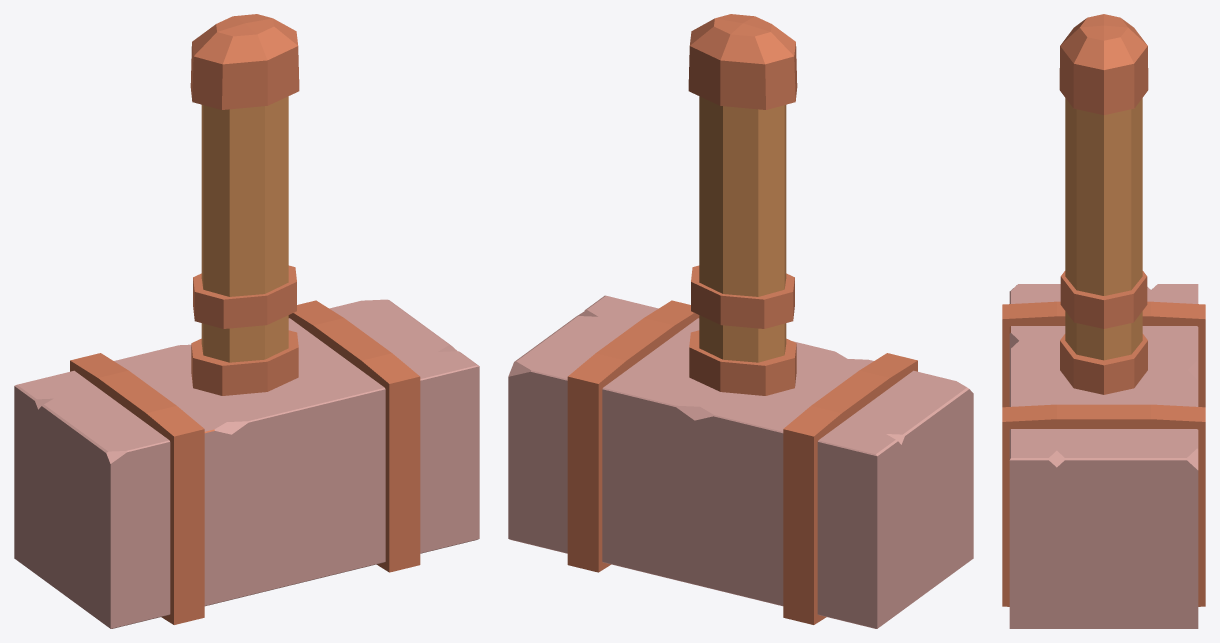
The model's file is ENV_Hammer01_Placeholder02.fbx.
The picture shows the model from 3 angles, left to right: view 1: azimuth 30°, elevation 25°; view 2: azimuth 150°, elevation 25°; view 3: azimuth 270°, elevation 25°; orthographic projection. The views are drawn at different scales.
Visible parts, largest first — view 1: Cube.006; view 2: Cube.006; view 3: Cube.006.
Boxes of the visible parts, x1,y1,x2,y2 form: Cube.006: (14,14,479,628); Cube.006: (508,14,973,628); Cube.006: (1002,14,1205,628).
Size of the model in its own units: 27.75 by 56.86 by 78.97.
